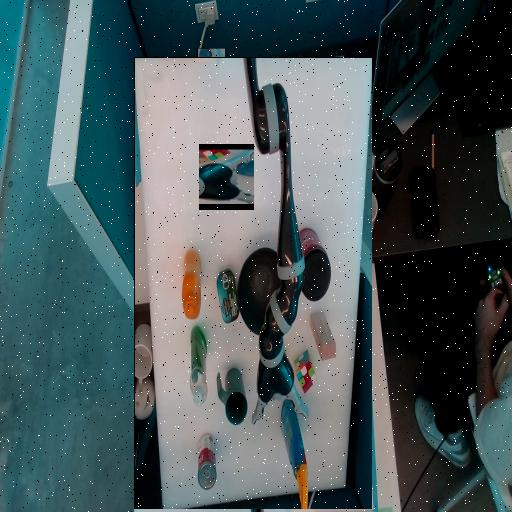bowl: (217, 250, 268, 302)
cleanser: (300, 162, 316, 241)
coffee_can: (175, 284, 214, 322)
jaco: (199, 150, 254, 205)
meat_can: (267, 244, 289, 298)
mug: (258, 156, 289, 186)
mustard_bottle: (306, 249, 324, 317)
rubik: (190, 185, 212, 207)
soup_can: (290, 78, 308, 133)
tennis_ball: (221, 188, 238, 218)
windex: (198, 49, 225, 167)
wooden_block: (170, 219, 195, 244)
workspace: (134, 58, 372, 509)
